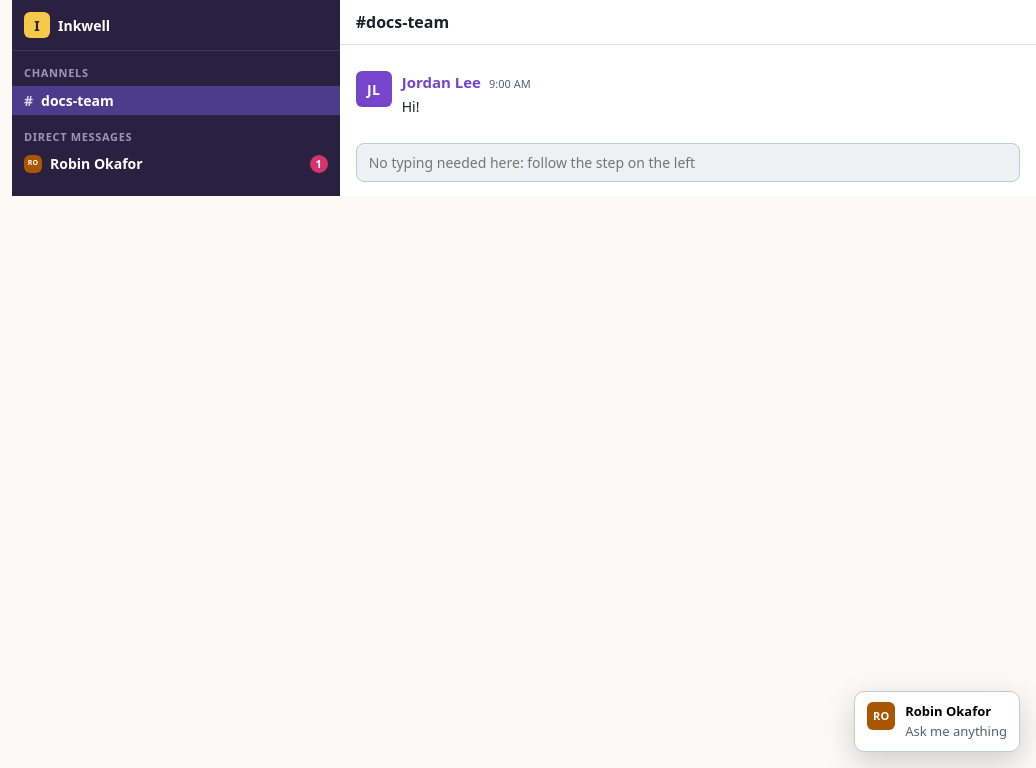
Test: Flack › switching channel in the sidebar changes the view and marks it read
Click the button "RO Robin Okafor 1" at (96, 164), box [12,149,340,178]
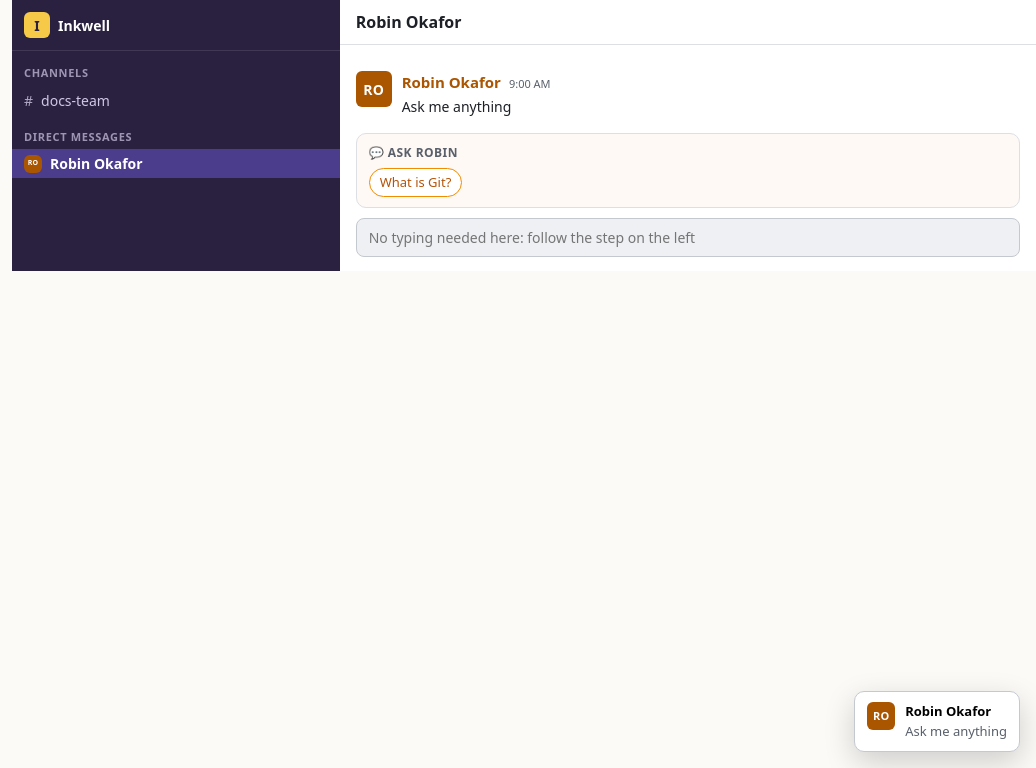
Expected: the text ", 1 unread" is not shown
Expected: the element showing "RO Robin Okafor 9:00 AM Ask me anything" is shown, [356,71,551,116]
